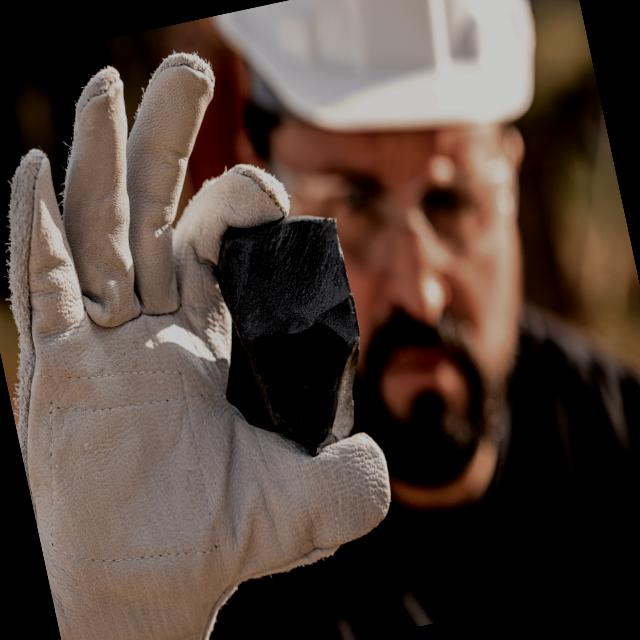helmet: (205, 0, 565, 190)
